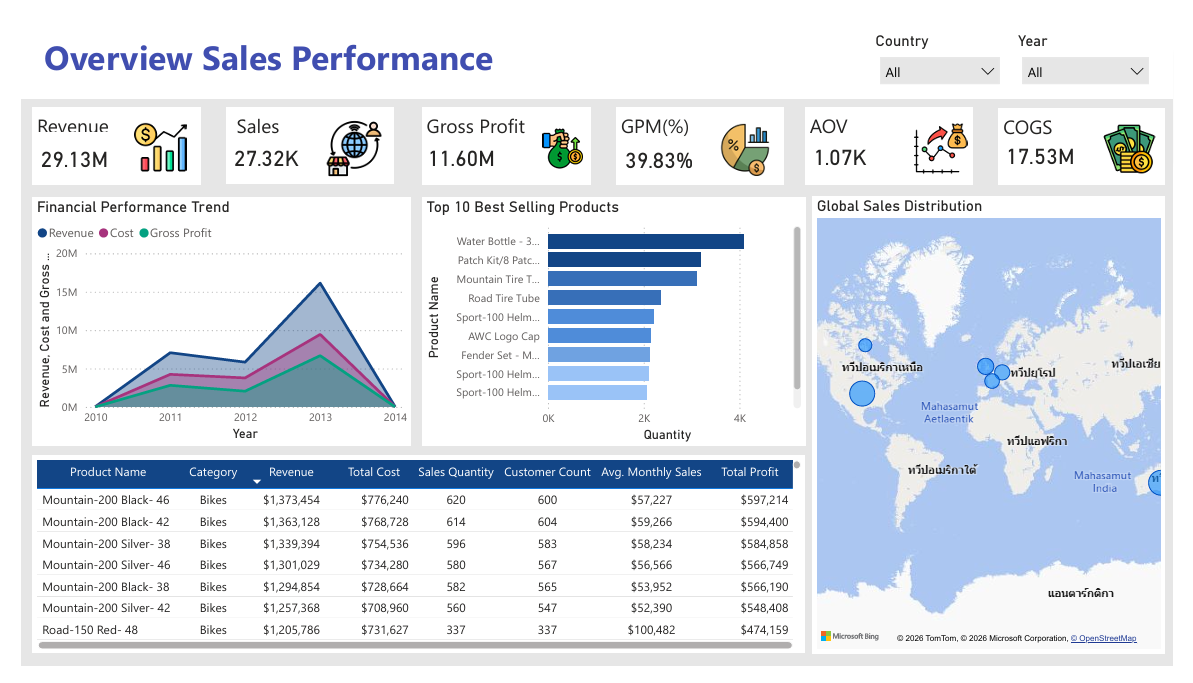

The dashboard page shown, as its layout file describes it:
{"tool":"powerbi","page":{"name":"Overview Sales Performance","canvas":[1280,720],"ordinal":0},"visuals":[{"type":"textbox","box":[1085.7,99.8,185.5,84.8],"z":0},{"type":"textbox","box":[660.8,98.9,186.4,85.7],"z":1000},{"type":"textbox","box":[445.2,98.9,186.4,85.7],"z":2000},{"type":"shape","box":[0,0,1279.6,89.3],"z":3000},{"type":"slicer","title":"Country","fields":{"Values":["gold dim_customers.country"]},"box":[944.3,14.1,152.8,75.1],"z":4000},{"type":"slicer","title":"Year","fields":{"Values":["gold fact_sales.new_order_date.Variation.Date Hierarchy.Year"]},"box":[1102.4,14.1,160.8,75.1],"z":5000},{"type":"tableEx","fields":{"Values":["gold report_products.product_name","gold report_products.category","Sum(gold fact_sales.sales_amount)","_Calculations.total_cost","Sum(gold fact_sales.quantity)","gold fact_sales.customer_key","Sum(gold report_products.avg_monthly_revenue)","_Calculations.Profit"]},"box":[12.4,485.9,858.6,220],"z":6000},{"type":"card","title":"Profit","fields":{"Values":["_Calculations.Profit"]},"box":[445.2,136.9,86.6,34.5],"z":7000},{"type":"card","title":"GPMs","fields":{"Values":["_Calculations.gross_profit_margin"]},"box":[663.4,137.8,91,38],"z":8000},{"type":"textbox","box":[20.2,12.3,536.5,64.1],"z":9000},{"type":"textbox","box":[12.4,98.9,186.4,85.7],"z":10000},{"type":"card","fields":{"Values":["Sum(gold fact_sales.sales_amount)"]},"box":[12.4,127.2,92.8,56.5],"z":11000},{"type":"textbox","box":[227.9,98.9,186.4,84.8],"z":12000},{"type":"card","fields":{"Values":["Count(gold fact_sales.order_number)"]},"box":[227.9,133.4,88.3,41.5],"z":13000},{"type":"textbox","box":[871,98.9,186.4,85.7],"z":14000},{"type":"card","fields":{"Values":["_Calculations.AOV"]},"box":[871,137,77,33],"z":15000},{"type":"card","fields":{"Values":["_Calculations.total_cost"]},"box":[1086,133,92,38],"z":16000},{"type":"areaChart","title":"Financial Performance Trend","fields":{"Category":["gold fact_sales.new_order_date.Variation.Date Hierarchy.Year","gold fact_sales.new_order_date.Variation.Date Hierarchy.Quarter","gold fact_sales.new_order_date.Variation.Date Hierarchy.Month"],"Y":["Sum(gold fact_sales.sales_amount)","_Calculations.total_cost","_Calculations.Profit"]},"box":[12.4,198.8,420.5,276.5],"z":17000},{"type":"image","box":[120.1,105.1,68,76],"z":18000},{"type":"image","box":[331.3,107.8,76,73.3],"z":19000},{"type":"image","box":[767.6,110.4,72.4,71.6],"z":20000},{"type":"image","box":[570.7,117.5,61,54.8],"z":21000},{"type":"image","box":[985,110.4,72.4,68.9],"z":22000},{"type":"image","box":[1190.6,110.6,79.9,68.5],"z":23000},{"type":"clusteredBarChart","title":"Top 10 Best Selling Products","fields":{"Category":["gold report_products.product_name"],"Y":["Sum(gold fact_sales.quantity)"]},"box":[445.2,198.8,425.8,276.5],"z":24000},{"type":"map","title":"Global Sales Distribution","fields":{"Category":["gold dim_customers.country"],"Size":["Sum(gold fact_sales.sales_amount)"]},"box":[878.9,198.4,391.6,507.5],"z":25000}]}

Visuals, with their boxes in screenshot pixels (x1, y1, x2, y2), scaled from the page's 1280x720 canvas onto the 1193x683 screenshot:
textbox: (1012, 95, 1185, 175)
textbox: (616, 94, 790, 175)
textbox: (415, 94, 589, 175)
shape: (0, 0, 1192, 85)
"Country" slicer: (880, 13, 1023, 85)
"Year" slicer: (1027, 13, 1177, 85)
tableEx - gold report_products.product_name x gold report_products.category: (12, 461, 812, 670)
"Profit" card: (415, 130, 496, 163)
"GPMs" card: (618, 131, 703, 167)
textbox: (19, 12, 519, 72)
textbox: (12, 94, 185, 175)
card - Sum(gold fact_sales.sales_amount): (12, 121, 98, 174)
textbox: (212, 94, 386, 174)
card - Count(gold fact_sales.order_number): (212, 127, 295, 166)
textbox: (812, 94, 986, 175)
card - _Calculations.AOV: (812, 130, 884, 161)
card - _Calculations.total_cost: (1012, 126, 1098, 162)
"Financial Performance Trend" areaChart: (12, 189, 403, 451)
image: (112, 100, 175, 172)
image: (309, 102, 380, 172)
image: (715, 105, 783, 173)
image: (532, 111, 589, 163)
image: (918, 105, 986, 170)
image: (1110, 105, 1184, 170)
"Top 10 Best Selling Products" clusteredBarChart: (415, 189, 812, 451)
"Global Sales Distribution" map: (819, 188, 1184, 670)
